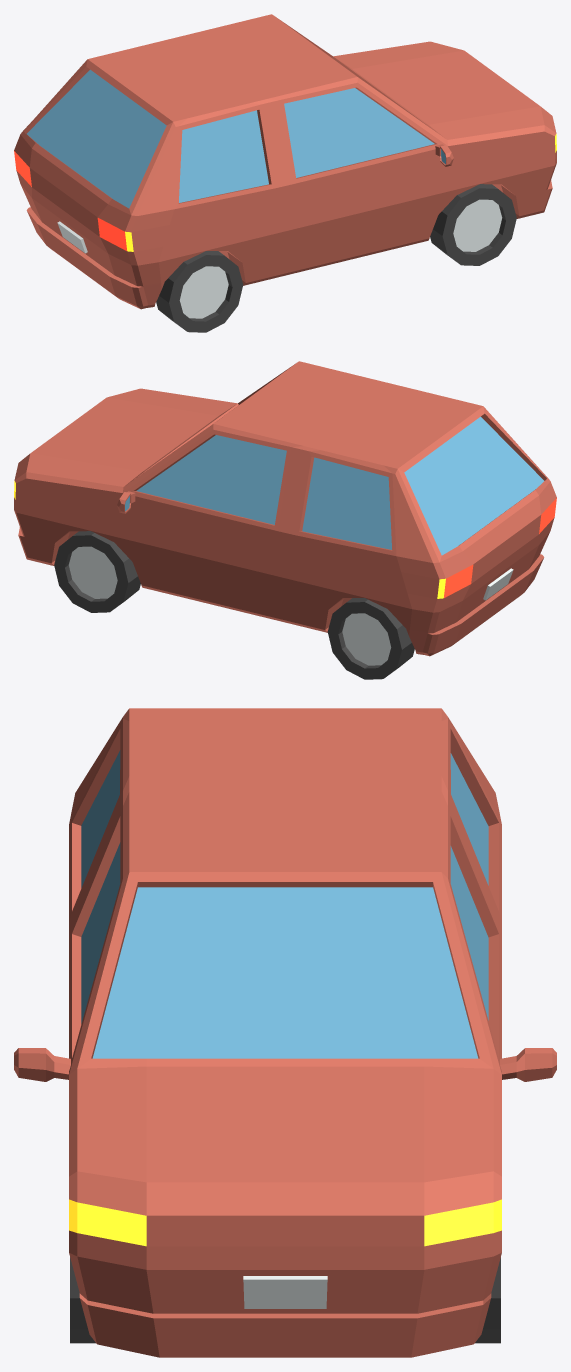
Rendered from carro.fbx.
3 views of the same model, one above another, from view 1: azimuth 30°, elevation 25°; view 2: azimuth 150°, elevation 25°; view 3: azimuth 270°, elevation 25° (orthographic). The views are drawn at different scales.
Parts seen in each view (by area): view 1: Cylinder.002; view 2: Cylinder.002; view 3: Cylinder.002.
Boxes of the visible parts, left/top/right/bottom form: Cylinder.002: left=14, top=14, right=556, bottom=332; Cylinder.002: left=14, top=361, right=556, bottom=679; Cylinder.002: left=14, top=708, right=556, bottom=1357.
Size of the model in its own units: 440 by 189 by 251.
